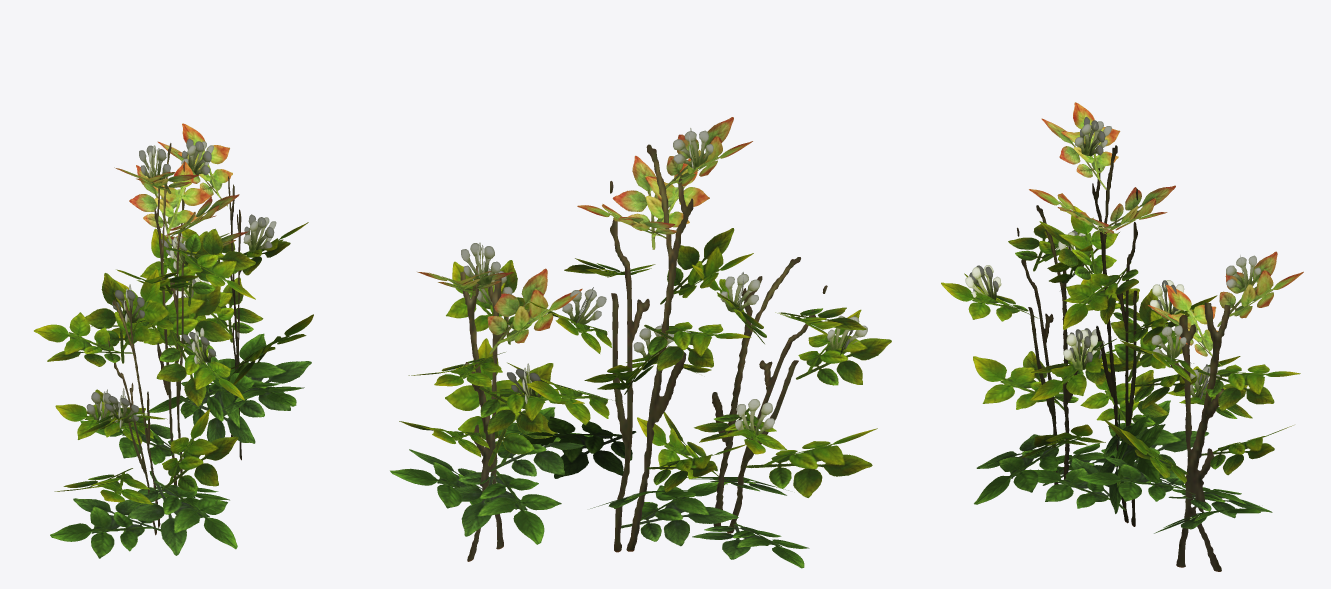
The model's file is wm_灌木洛阳城大灌03.fbx.
The picture shows the model from 3 angles, left to right: view 1: azimuth 30°, elevation 25°; view 2: azimuth 150°, elevation 25°; view 3: azimuth 270°, elevation 25°; orthographic projection. The views are drawn at different scales.
Parts seen in each view (by area): view 1: wm_灌木洛阳城大灌03; view 2: wm_灌木洛阳城大灌03; view 3: wm_灌木洛阳城大灌03.
Part boxes in pixels (left/top/right/bottom): wm_灌木洛阳城大灌03: left=34, top=123, right=313, bottom=558; wm_灌木洛阳城大灌03: left=390, top=117, right=891, bottom=568; wm_灌木洛阳城大灌03: left=941, top=102, right=1303, bottom=571.
Size of the model in its own units: 211 by 265 by 186.
